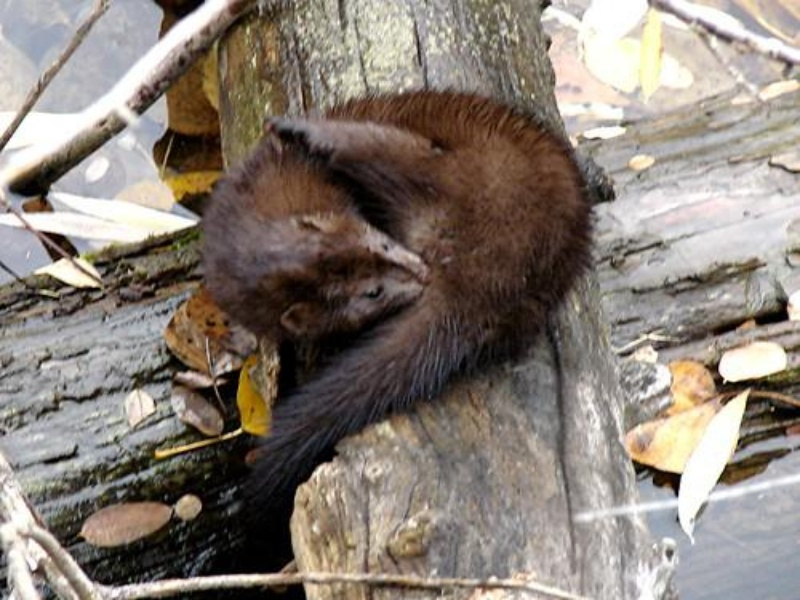minkish: (196, 88, 599, 527)
